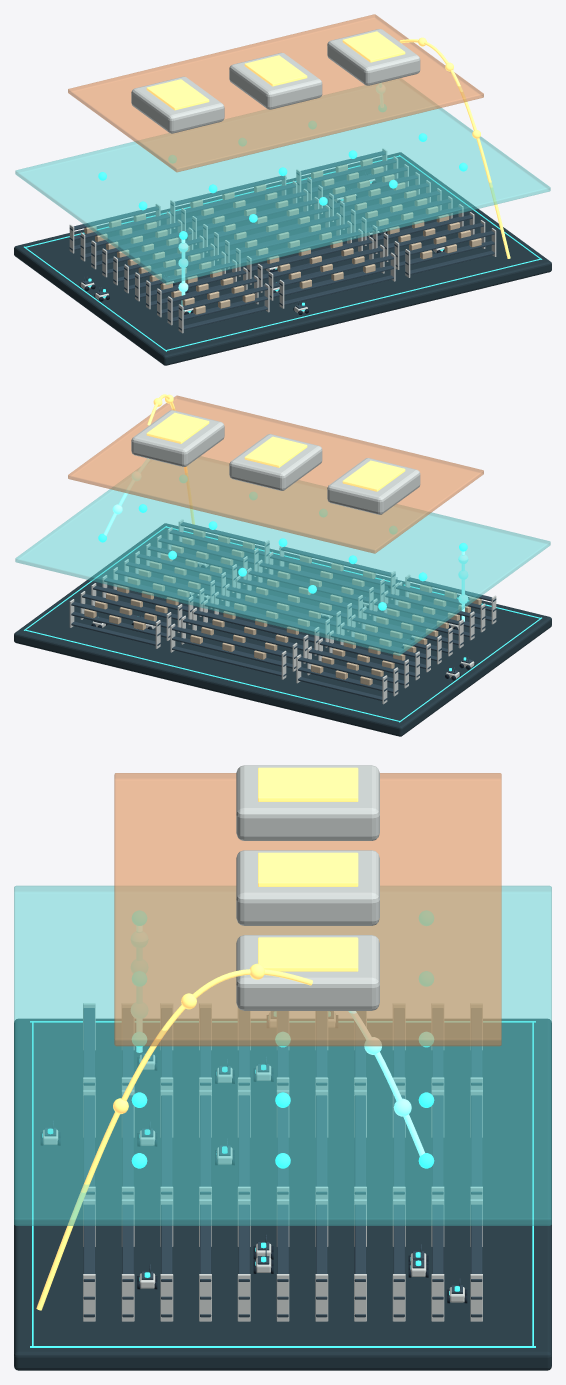
Rendered from architecture.glb.
The picture shows the model from 3 angles, top to bottom: view 1: azimuth 30°, elevation 25°; view 2: azimuth 150°, elevation 25°; view 3: azimuth 270°, elevation 25°; orthographic projection. The views are drawn at different scales.
Parts seen in each view (by area): view 1: Map layer, warehouse_slab, Decision layer, Policy module, Policy module.001, Policy module.002, Policy core.001, Policy core.002, Policy core, closed loop, warehouse_edge.002, shelf.014 (+19 smaller); view 2: Map layer, warehouse_slab, Decision layer, Policy module, Policy module.002, Policy module.001, Policy core.002, Policy core, Policy core.001, warehouse_edge.003, shelf.077, shelf.086 (+31 smaller); view 3: Map layer, warehouse_slab, Decision layer, Policy module, Policy module.001, Policy module.002, Policy core, Policy core.001, Policy core.002, closed loop, shelf.023, shelf.041 (+31 smaller).
Part boxes in pixels (bbox=[...]): Map layer: bbox=[15, 78, 550, 284]; warehouse_slab: bbox=[14, 152, 551, 365]; Decision layer: bbox=[68, 14, 483, 172]; Policy module: bbox=[131, 76, 224, 133]; Policy module.001: bbox=[229, 52, 322, 109]; Policy module.002: bbox=[327, 29, 420, 85]; Policy core.001: bbox=[244, 55, 307, 86]; Policy core.002: bbox=[342, 31, 405, 62]; Policy core: bbox=[146, 79, 209, 110]; closed loop: bbox=[399, 39, 510, 258]; warehouse_edge.002: bbox=[166, 258, 540, 350]; shelf.014: bbox=[268, 247, 382, 278]; Map layer: bbox=[15, 456, 550, 655]; warehouse_slab: bbox=[14, 523, 551, 736]; Decision layer: bbox=[68, 395, 483, 553]; Policy module: bbox=[327, 458, 420, 514]; Policy module.002: bbox=[131, 410, 224, 466]; Policy module.001: bbox=[229, 434, 322, 490]; Policy core.002: bbox=[146, 412, 209, 443]; Policy core: bbox=[342, 460, 405, 491]; Policy core.001: bbox=[244, 436, 307, 467]; warehouse_edge.003: bbox=[25, 629, 399, 721]; shelf.077: bbox=[192, 610, 308, 641]; shelf.086: bbox=[183, 618, 297, 649]; Map layer: bbox=[14, 885, 551, 1225]; warehouse_slab: bbox=[14, 1018, 551, 1370]; Decision layer: bbox=[114, 773, 501, 1046]; Policy module: bbox=[236, 765, 379, 840]; Policy module.001: bbox=[236, 850, 379, 925]; Policy module.002: bbox=[236, 935, 379, 1010]; Policy core: bbox=[258, 767, 358, 801]; Policy core.001: bbox=[258, 852, 358, 886]; Policy core.002: bbox=[258, 937, 358, 971]; closed loop: bbox=[36, 969, 312, 1310]; shelf.023: bbox=[161, 1095, 172, 1194]; shelf.041: bbox=[238, 1095, 249, 1194].
Size of the model in its own units: 11.1 by 5.45 by 7.5.
